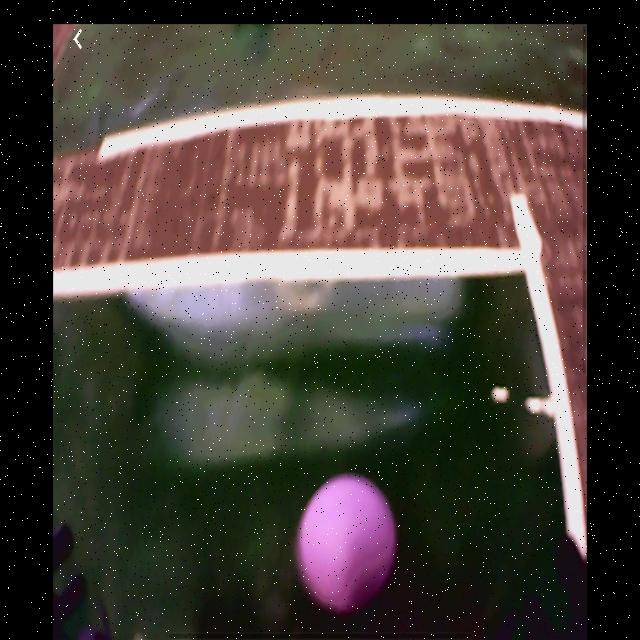ball: (295, 470, 400, 613)
